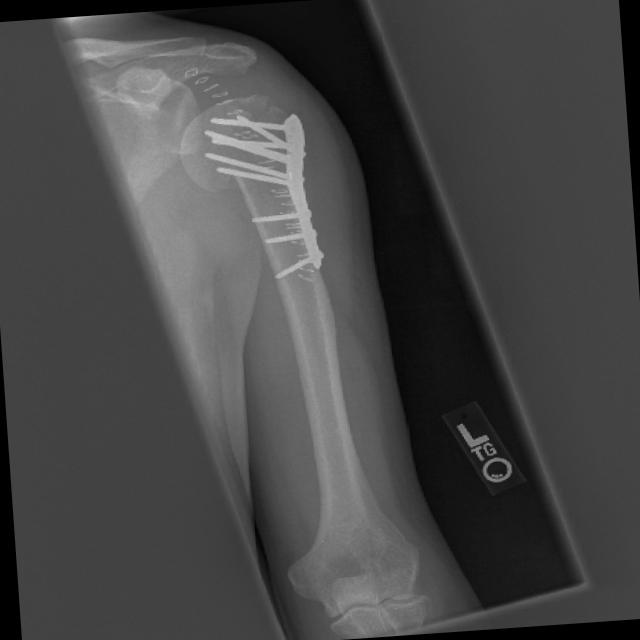humerus fracture: (239, 89, 288, 120), (213, 169, 251, 195)
